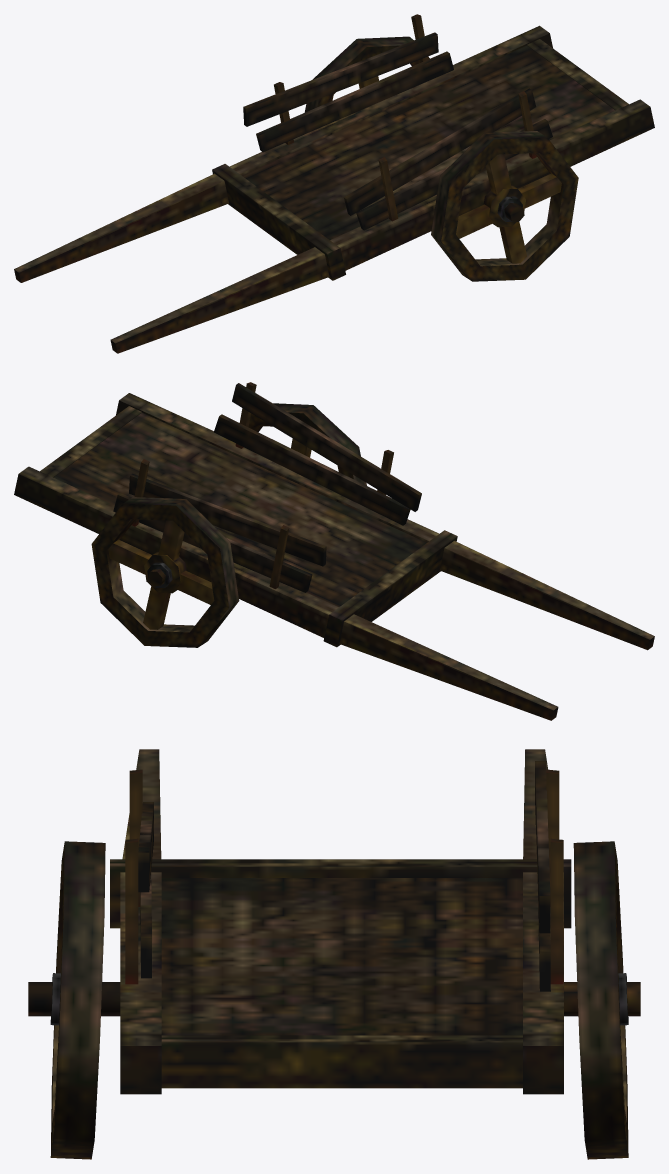
File: b_general_obj_21_01.fbx
The picture shows the model from 3 angles, top to bottom: view 1: azimuth 30°, elevation 25°; view 2: azimuth 150°, elevation 25°; view 3: azimuth 270°, elevation 25°; orthographic projection. The views are drawn at different scales.
Parts seen in each view (by area): view 1: Sphere01; view 2: Sphere01; view 3: Sphere01.
Part boxes in pixels (x1=…): Sphere01: x1=14, y1=14, x2=654, y2=353; Sphere01: x1=14, y1=382, x2=654, y2=720; Sphere01: x1=28, y1=749, x2=640, y2=1159.
Size of the model in its own units: 4.77 by 1.44 by 2.36.
